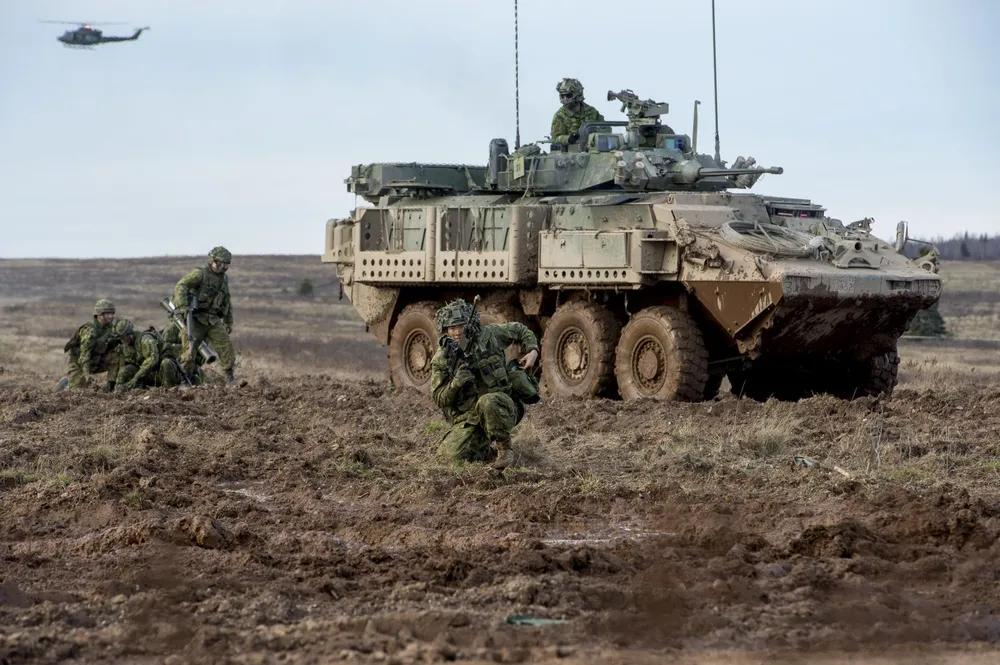MIL_IFV: (317, 99, 943, 409)
